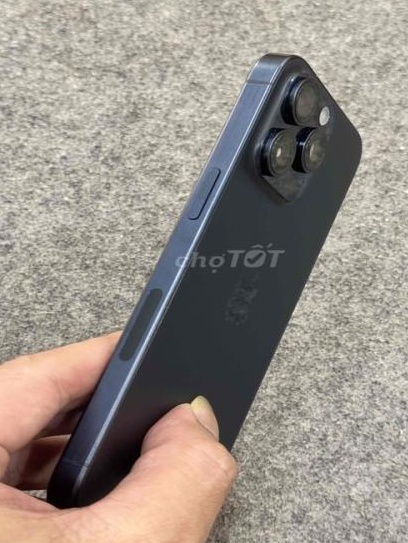scratch: (220, 269, 262, 324)
